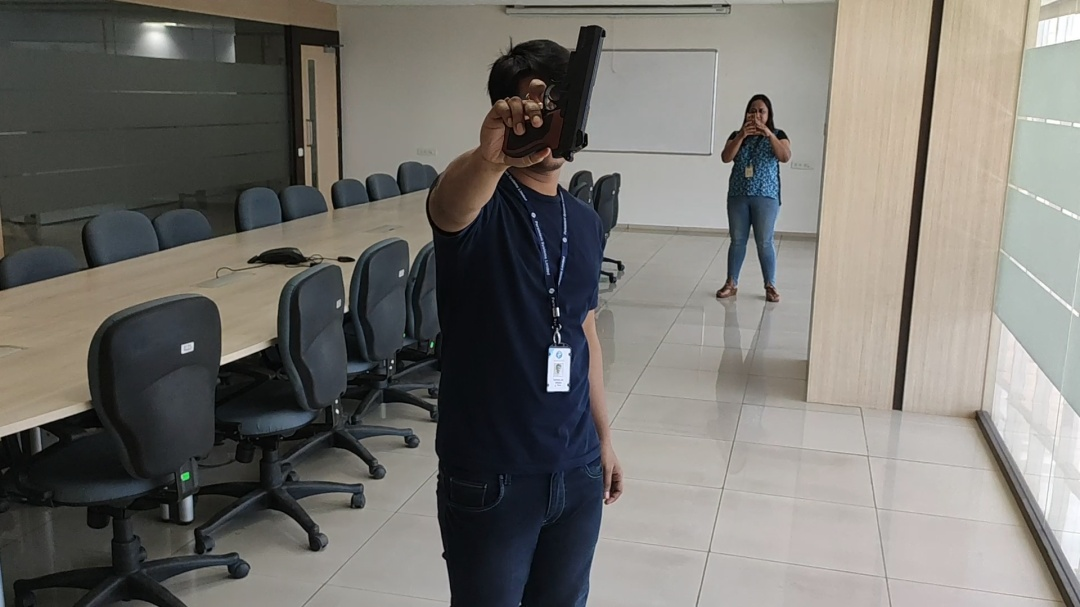gun: (544, 19, 611, 152)
